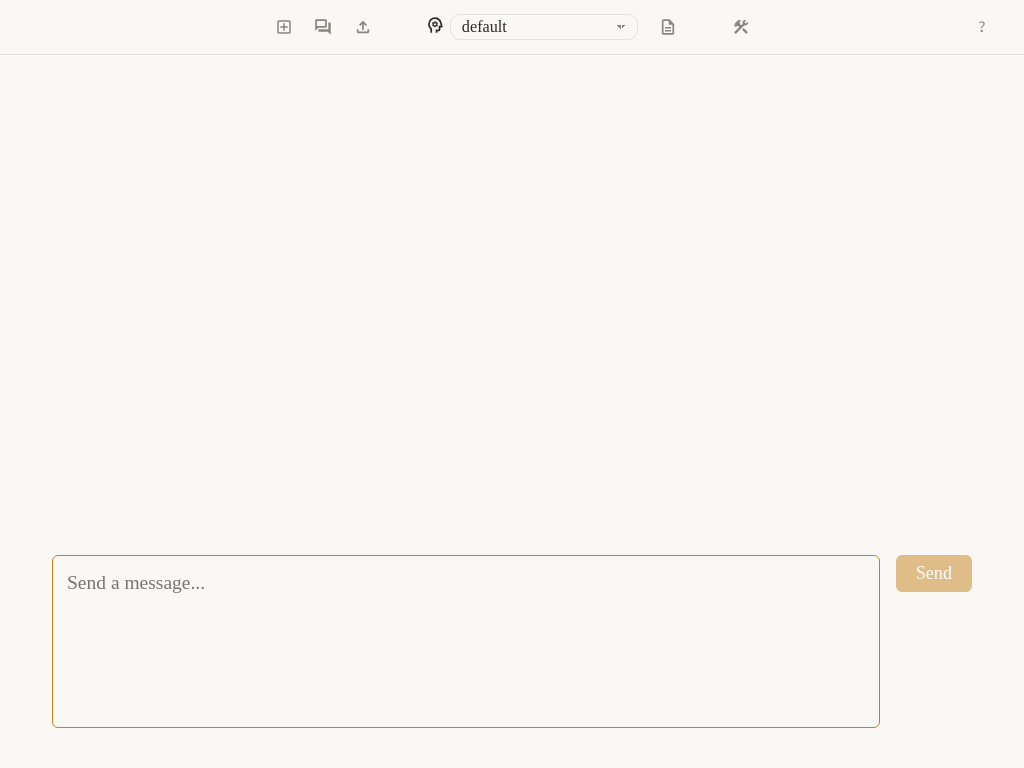
Test: interruption and recovery › switching conversations mid-turn interrupts the owner and leaves the other untouched
The width and height of the screenshot is (1024, 768).
Type "go" into the text box with placeholder "Send a message..." at {"x": 466, "y": 642}, box x1=52 y1=555 x2=880 y2=728
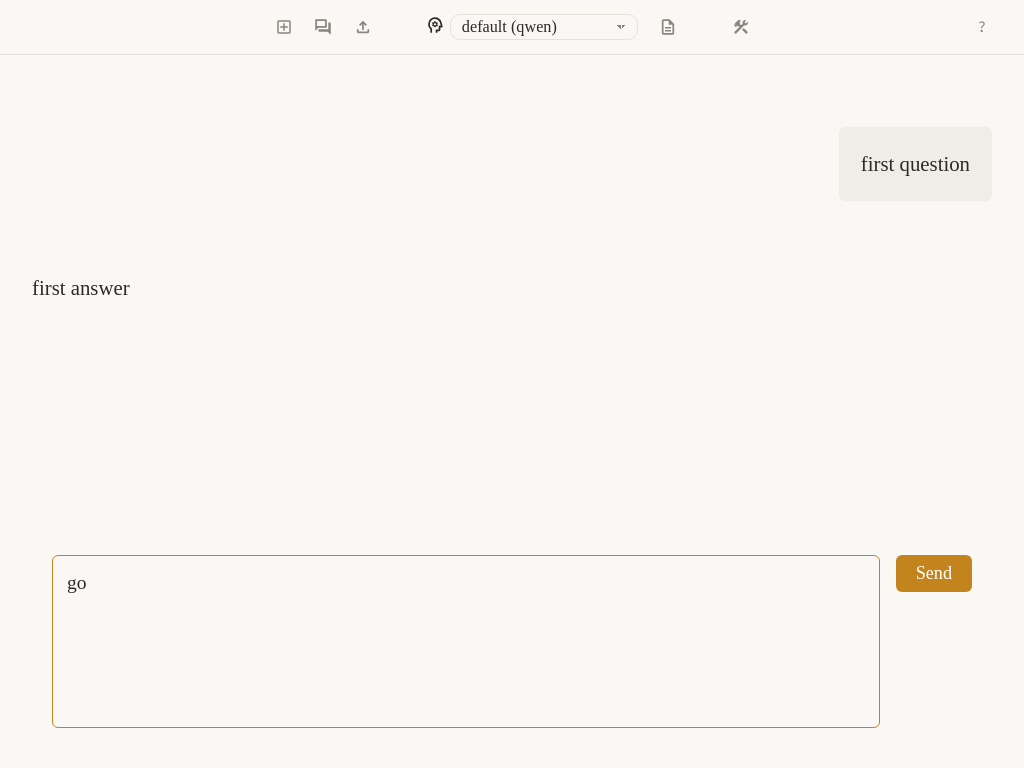
Now the button "Send" is enabled
Click the button "Send" at {"x": 934, "y": 574}, box x1=896 y1=555 x2=972 y2=592
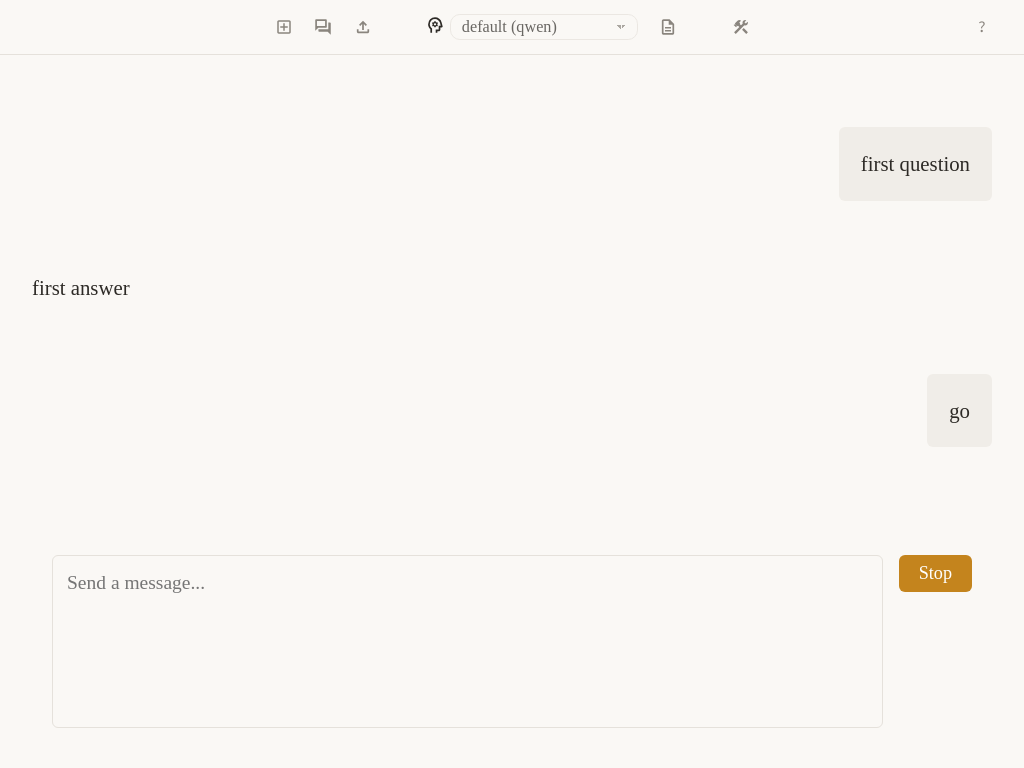
Click the button named "conversations" at {"x": 323, "y": 27}, box x1=314 y1=18 x2=332 y2=36
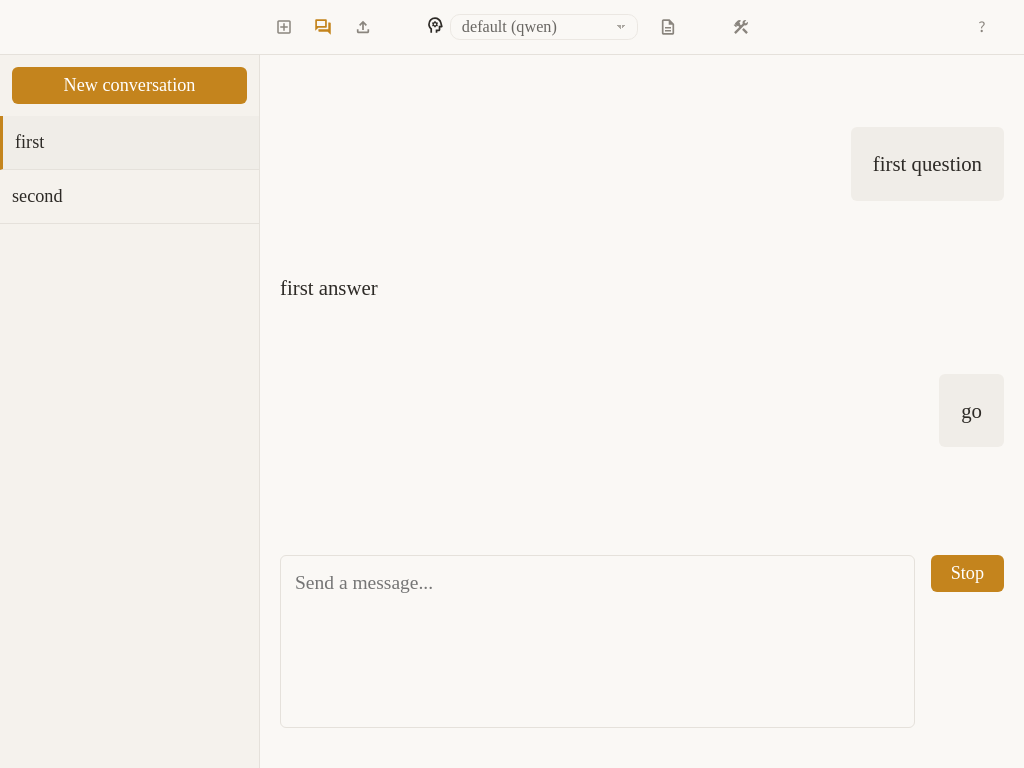
Click the text "second" at {"x": 37, "y": 196}, box x1=12 y1=186 x2=62 y2=206
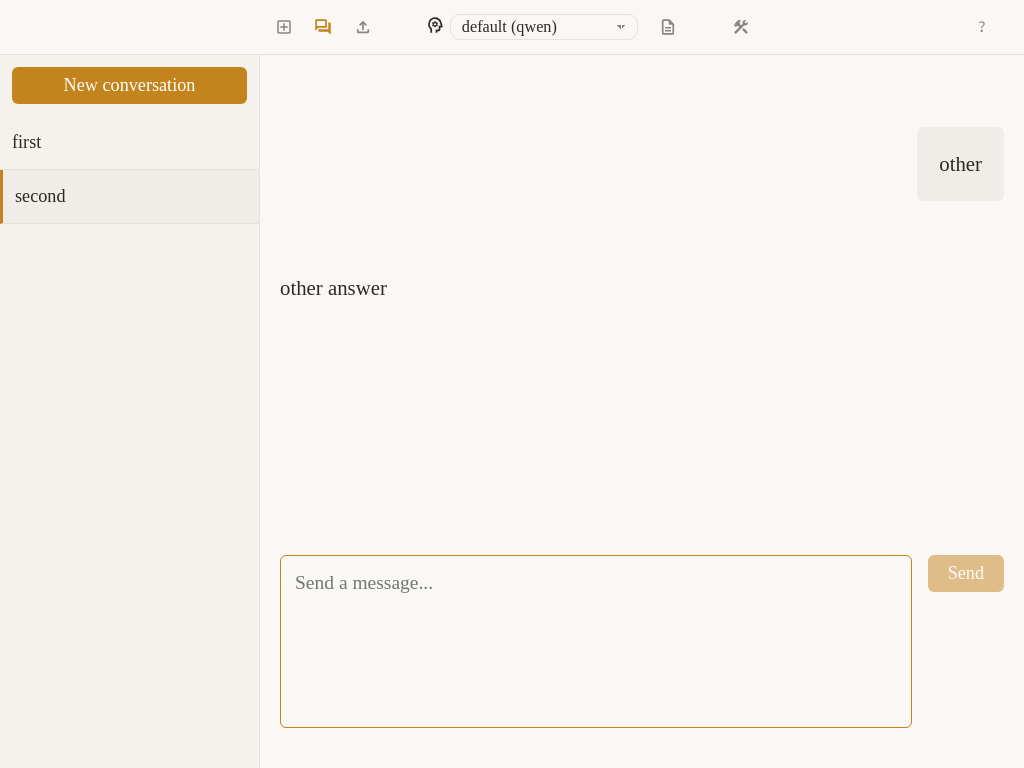
Now the text "other answer" is shown, box x1=280 y1=276 x2=387 y2=298
